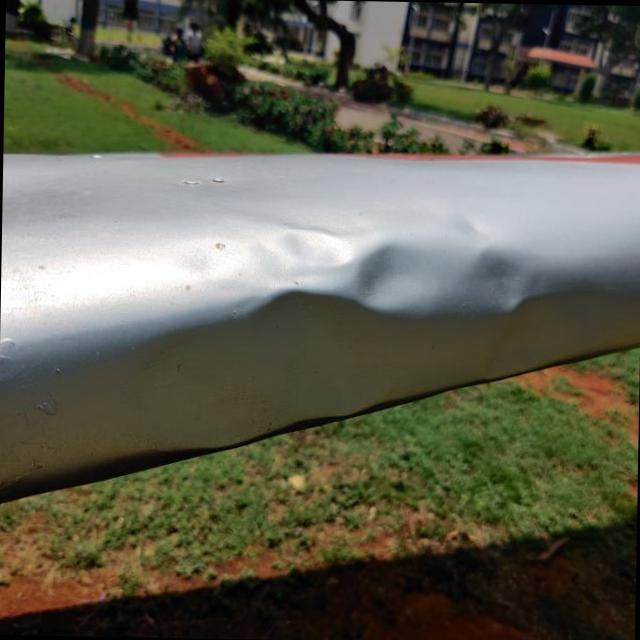Dent: (189, 203, 468, 432), (439, 240, 561, 315)
